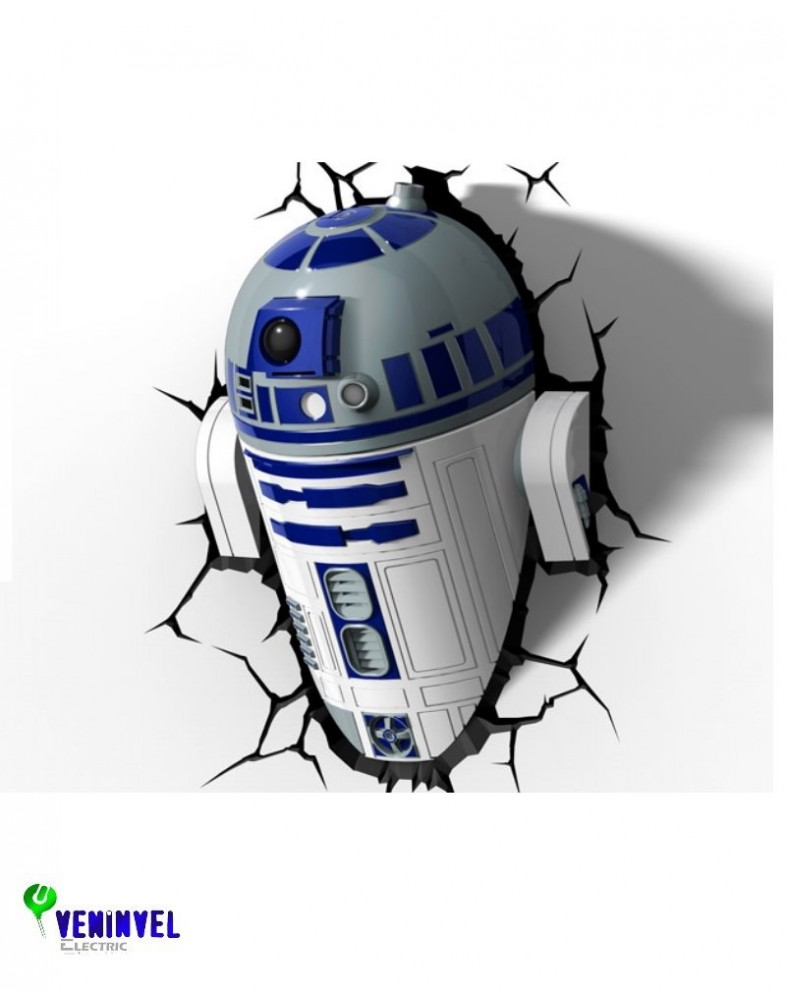r2d2: (195, 183, 592, 565)
